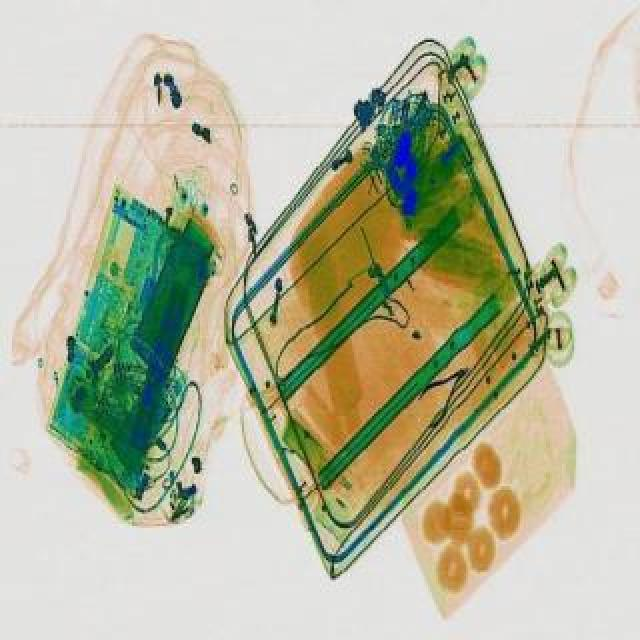wrench: (404, 352, 474, 424)
